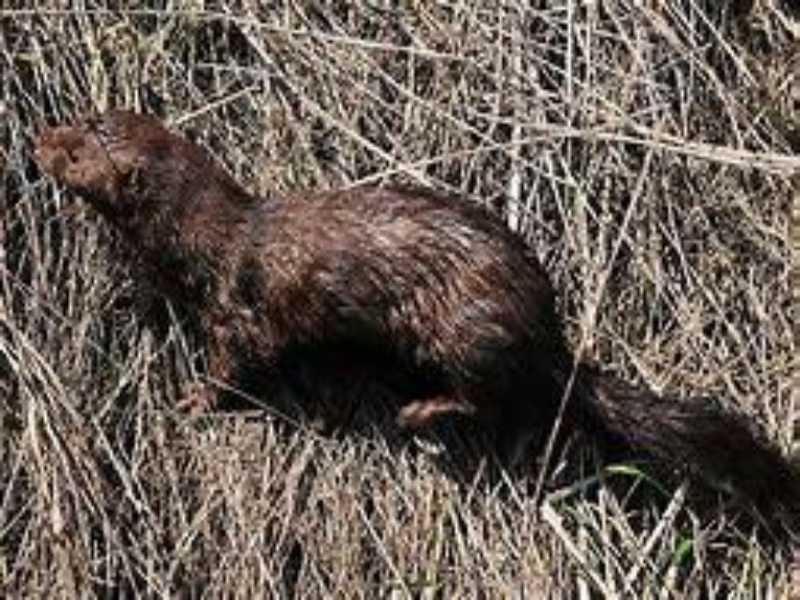minkish: (35, 107, 774, 506)
